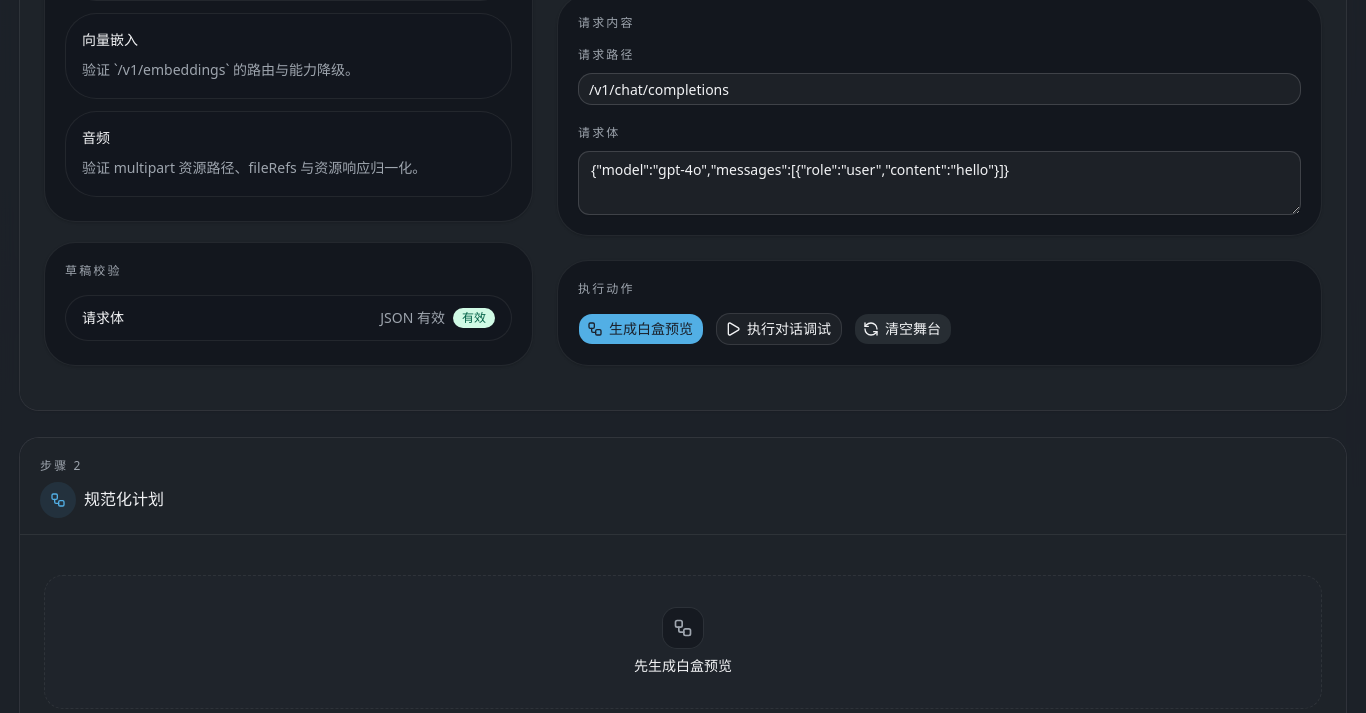
WorkbenchPage › renders three-stage preview and execute flow
(page scrolled)
Expected: the text "规范化计划" is shown, [84,488,164,512]
Click the button "生成白盒预览" at (641, 329), box [578,313,704,345]
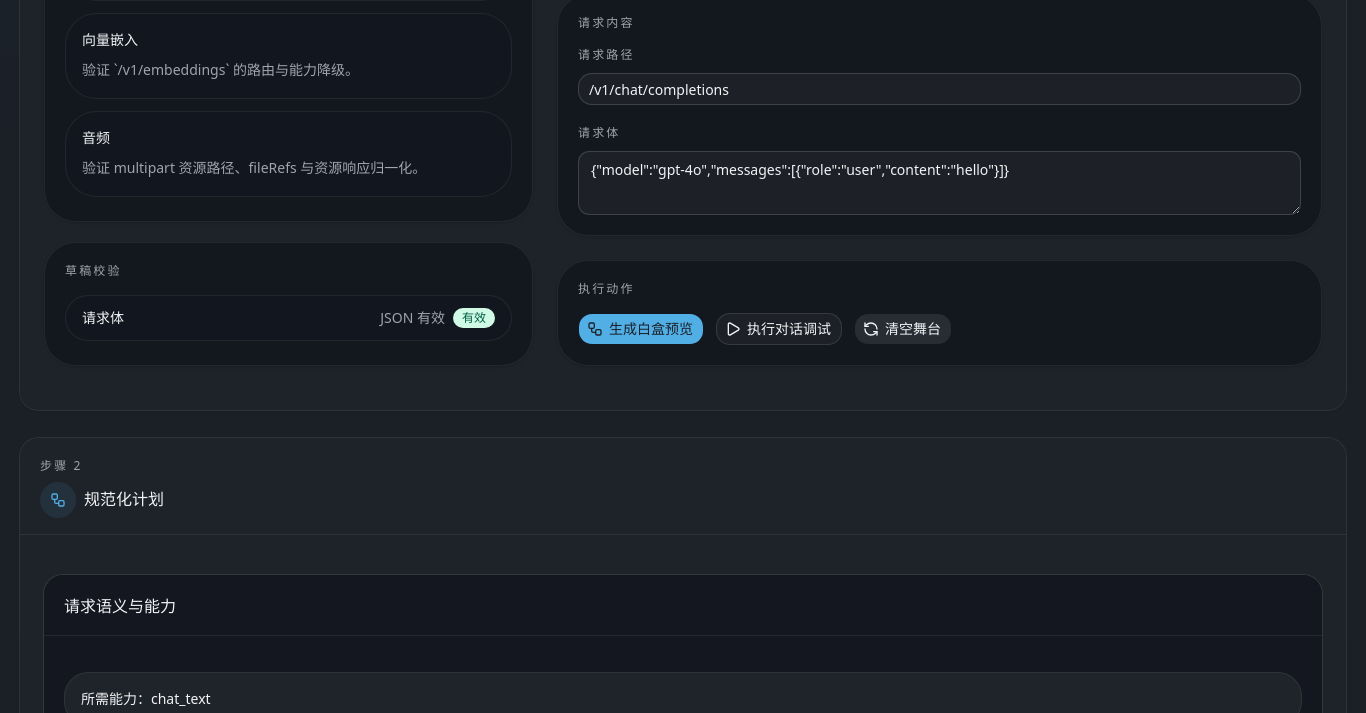
Expected: the text "请求语义与能力" is shown, [64,598,176,615]
Click the button "执行对话调试" at (779, 329), box [716,313,842,345]
(page scrolled)
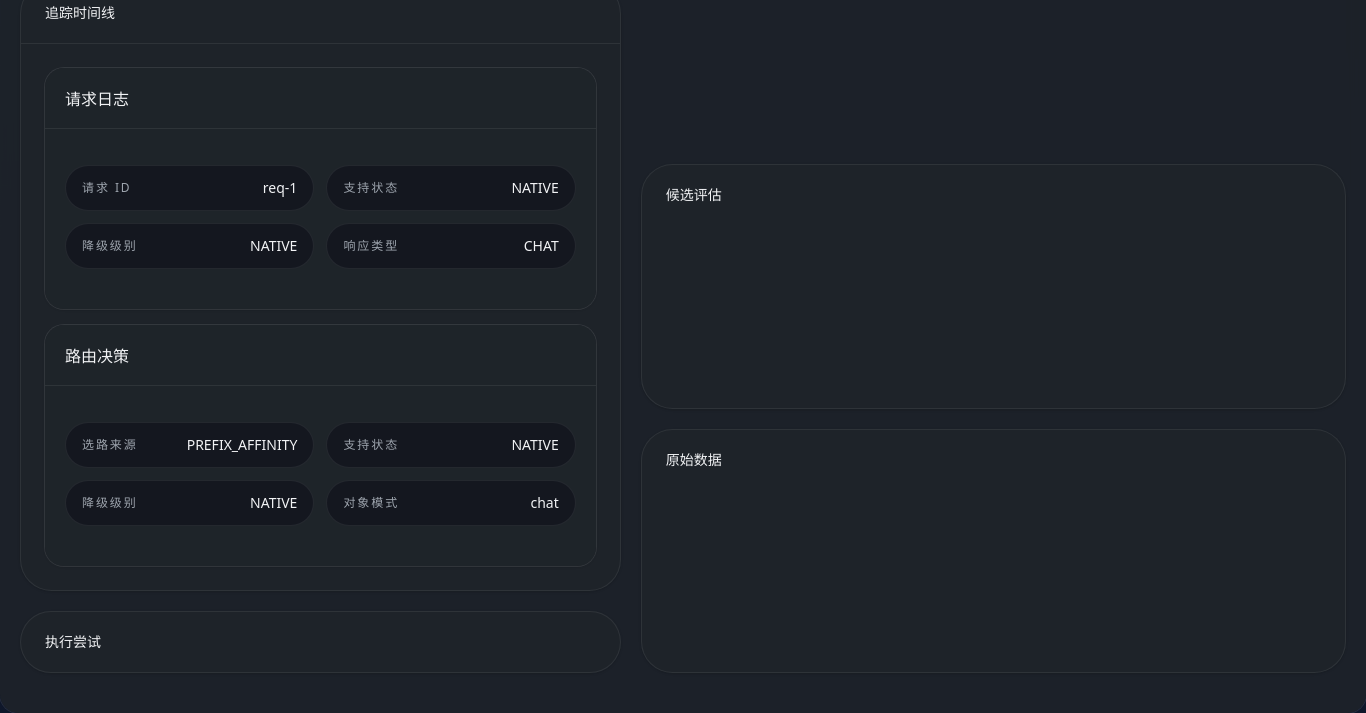
Expected: the text "路由决策" is shown, [65,348,129,365]
